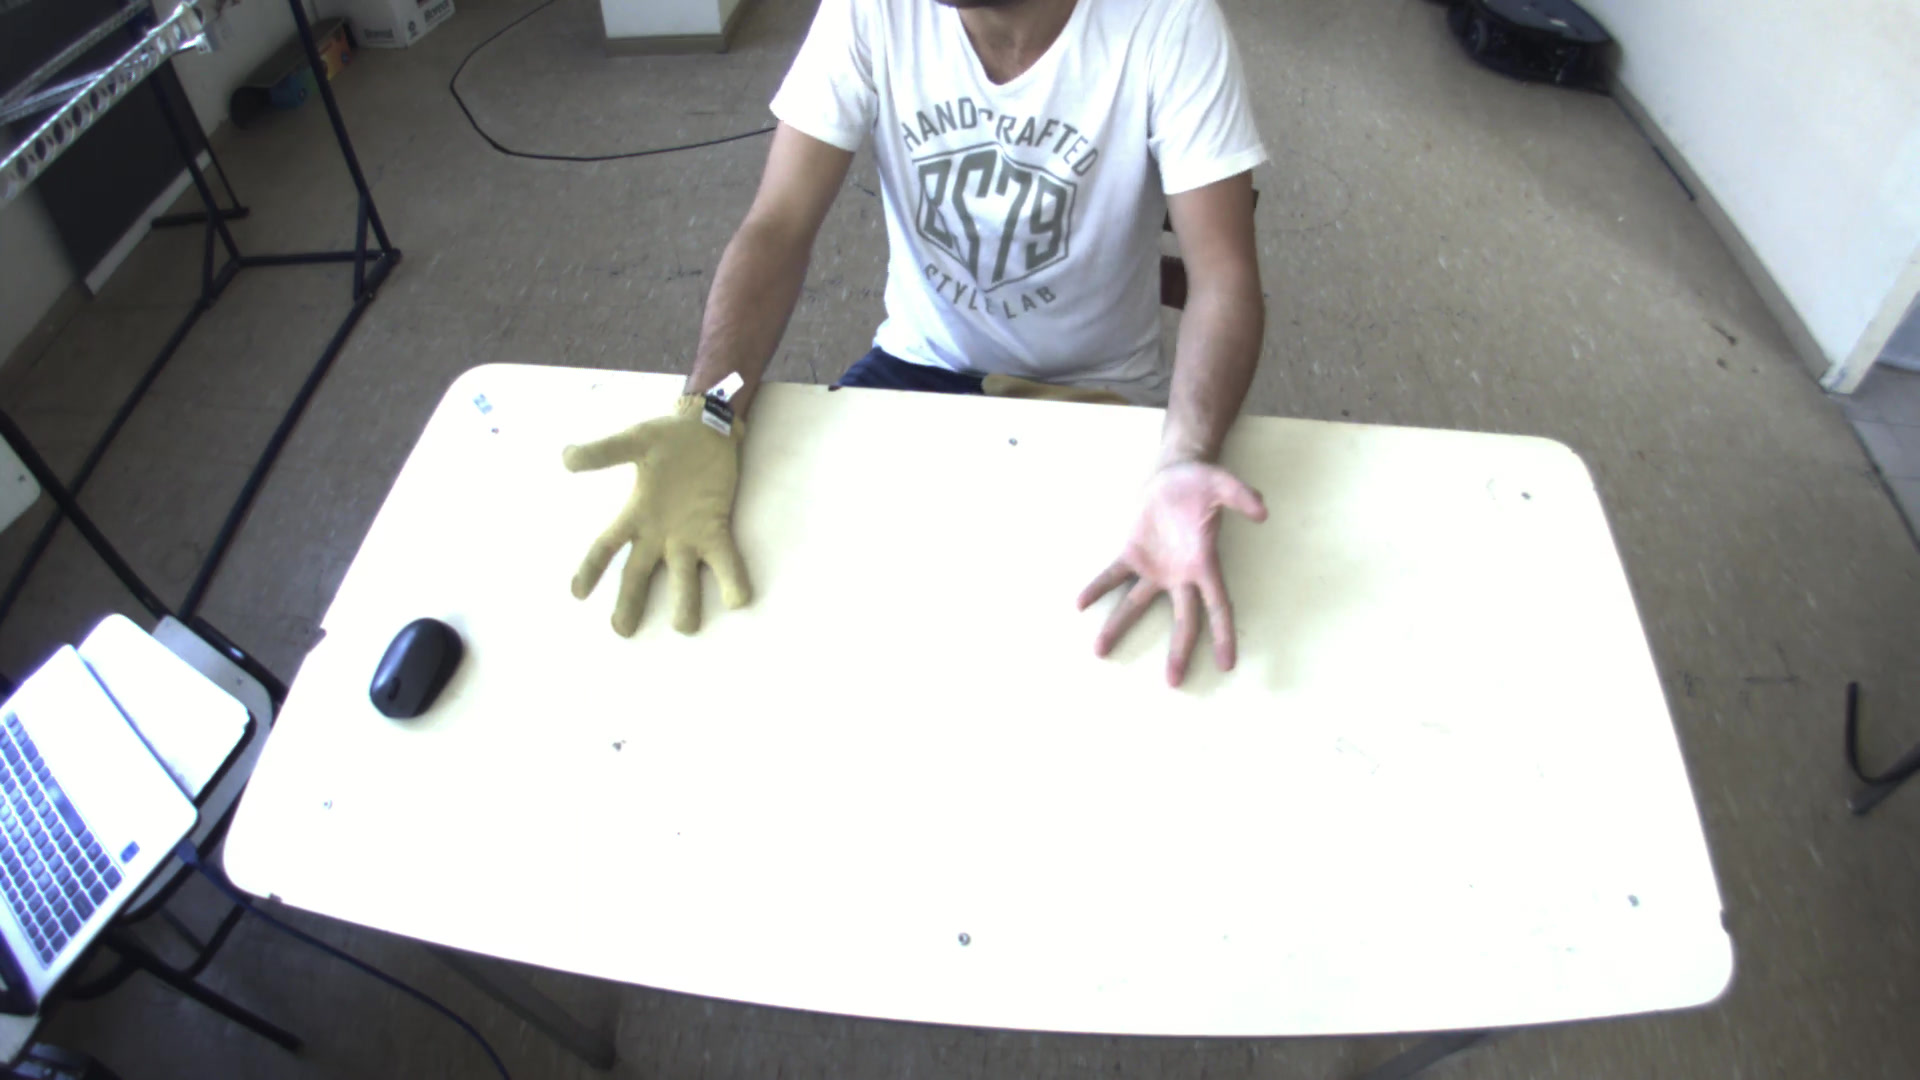hand: (545, 381, 764, 653), (1068, 444, 1286, 699)
